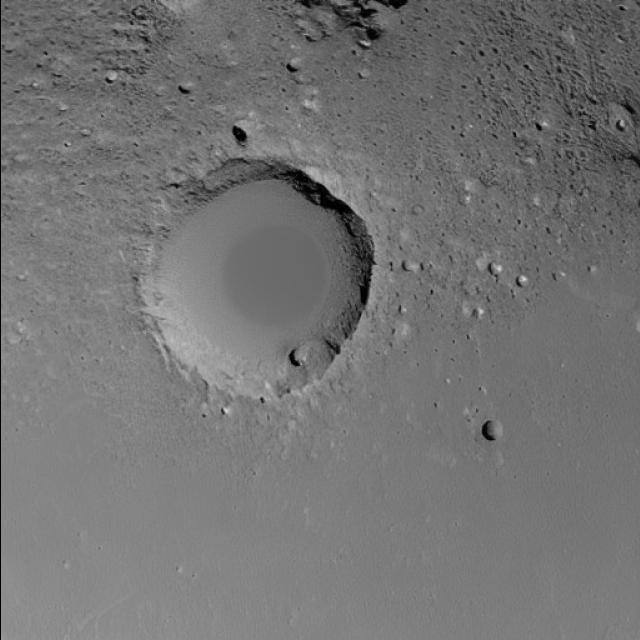crater: (152, 156, 375, 392)
